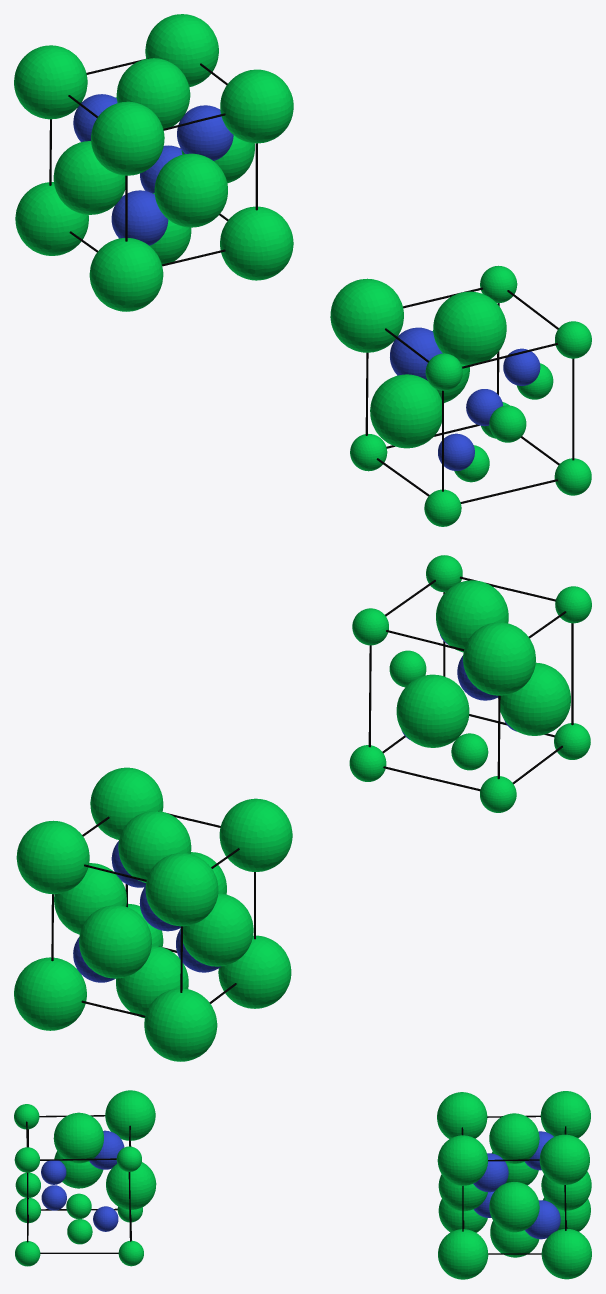
Rendered from CCCuZnS.gltf.
The picture shows the model from 3 angles, top to bottom: view 1: azimuth 30°, elevation 25°; view 2: azimuth 150°, elevation 25°; view 3: azimuth 270°, elevation 25°; orthographic projection. The views are drawn at different scales.
Visible parts, largest first — view 1: Sphere.002_Sphere.005, Sphere.026_Sphere.038, Sphere.007_Sphere.024, Sphere.003_Sphere.009, Sphere.029_Sphere.040, Sphere.000_Sphere.003, Sphere.013_Sphere.184, Sphere.085_Sphere.192, Sphere.024_Sphere.187, Sphere.005_Sphere.022, Sphere.015_Sphere.031, Sphere.025_Sphere.037 (+20 smaller); view 2: Sphere.013_Sphere.184, Sphere.000_Sphere.003, Sphere.084_Sphere.191, Sphere.009_Sphere.030, Sphere.005_Sphere.022, Sphere.025_Sphere.037, Sphere.020_Sphere.034, Sphere.026_Sphere.038, Sphere.007_Sphere.024, Sphere.015_Sphere.031, Sphere.085_Sphere.192, Sphere.029_Sphere.040 (+12 smaller); view 3: Sphere.023_Sphere.036, Sphere.003_Sphere.009, Sphere.029_Sphere.040, Sphere.025_Sphere.037, Sphere.020_Sphere.034, Sphere.013_Sphere.184, Sphere.024_Sphere.187, Sphere.004_Sphere.011, Sphere.026_Sphere.038, Sphere.000_Sphere.003, Sphere.084_Sphere.191, Sphere.009_Sphere.030 (+23 smaller).
Part boxes in pixels (x1,y1,x2,y2): Sphere.002_Sphere.005: [154, 153, 227, 227]; Sphere.026_Sphere.038: [91, 101, 164, 175]; Sphere.007_Sphere.024: [89, 238, 163, 311]; Sphere.003_Sphere.009: [220, 206, 293, 280]; Sphere.029_Sphere.040: [220, 69, 293, 143]; Sphere.000_Sphere.003: [14, 45, 87, 119]; Sphere.013_Sphere.184: [330, 278, 403, 352]; Sphere.085_Sphere.192: [370, 374, 441, 448]; Sphere.024_Sphere.187: [433, 291, 506, 365]; Sphere.005_Sphere.022: [15, 182, 88, 255]; Sphere.015_Sphere.031: [53, 141, 125, 214]; Sphere.025_Sphere.037: [145, 14, 218, 87]; Sphere.013_Sphere.184: [463, 622, 535, 695]; Sphere.000_Sphere.003: [145, 853, 218, 926]; Sphere.084_Sphere.191: [396, 674, 469, 747]; Sphere.009_Sphere.030: [79, 905, 151, 978]; Sphere.005_Sphere.022: [144, 988, 217, 1061]; Sphere.025_Sphere.037: [16, 820, 89, 894]; Sphere.020_Sphere.034: [14, 957, 86, 1030]; Sphere.026_Sphere.038: [219, 798, 292, 871]; Sphere.007_Sphere.024: [218, 935, 291, 1008]; Sphere.015_Sphere.031: [180, 893, 253, 966]; Sphere.085_Sphere.192: [498, 662, 570, 735]; Sphere.029_Sphere.040: [90, 767, 163, 839]; Sphere.023_Sphere.036: [489, 1182, 539, 1232]; Sphere.003_Sphere.009: [438, 1229, 488, 1279]; Sphere.029_Sphere.040: [437, 1135, 487, 1185]; Sphere.025_Sphere.037: [539, 1134, 589, 1184]; Sphere.020_Sphere.034: [541, 1229, 591, 1279]; Sphere.013_Sphere.184: [105, 1090, 155, 1140]; Sphere.024_Sphere.187: [53, 1112, 103, 1163]; Sphere.004_Sphere.011: [489, 1113, 539, 1163]; Sphere.026_Sphere.038: [437, 1092, 487, 1138]; Sphere.000_Sphere.003: [540, 1091, 590, 1138]; Sphere.084_Sphere.191: [106, 1162, 156, 1209]; Sphere.009_Sphere.030: [541, 1171, 591, 1210].
Bounding box in the file's own units: 12.16 × 12.09 × 45.07.
